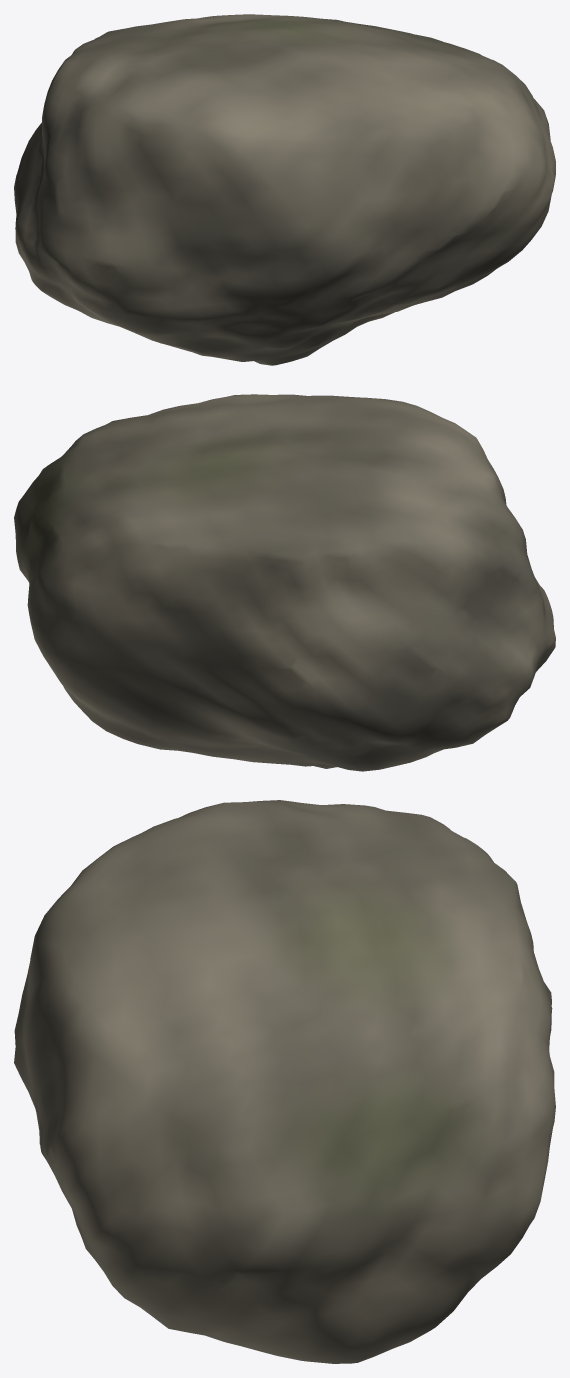
The model's file is large-victorian-granite-rock.glb.
3 views of the same model, one above another, from view 1: azimuth 30°, elevation 25°; view 2: azimuth 150°, elevation 25°; view 3: azimuth 270°, elevation 25° (orthographic). The views are drawn at different scales.
Visible parts, largest first — view 1: Large rounded granite boulder; view 2: Large rounded granite boulder; view 3: Large rounded granite boulder.
Part boxes in pixels (left/top/right/bottom): Large rounded granite boulder: left=14, top=14, right=555, bottom=365; Large rounded granite boulder: left=14, top=394, right=555, bottom=771; Large rounded granite boulder: left=14, top=800, right=555, bottom=1363.
Bounding box in the file's own units: 3.45 × 1.98 × 2.42.
